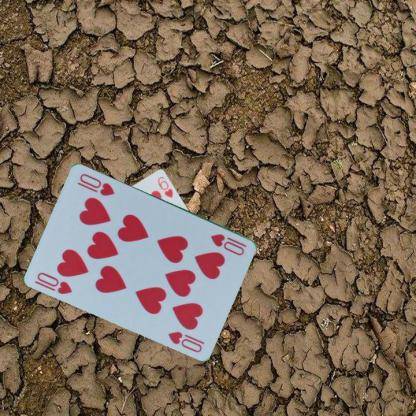10h: (35, 269, 74, 296), (208, 231, 248, 257)
